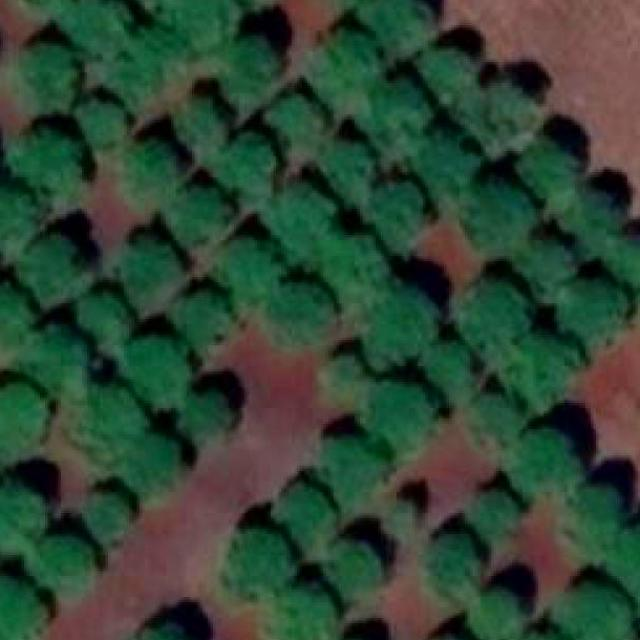Tree: (456, 172, 538, 254), (456, 272, 535, 350), (110, 25, 184, 103), (70, 377, 140, 455), (19, 128, 89, 205), (559, 574, 640, 640), (309, 34, 383, 106), (504, 429, 577, 501), (20, 233, 84, 312), (560, 275, 628, 349), (560, 487, 628, 559), (115, 224, 182, 297), (428, 526, 491, 603), (162, 178, 234, 244), (362, 280, 435, 345), (368, 380, 436, 448), (266, 180, 331, 251), (508, 334, 577, 400), (321, 426, 386, 494), (0, 476, 56, 554), (224, 28, 288, 96), (228, 529, 292, 597), (55, 0, 131, 57), (366, 180, 430, 246), (160, 0, 247, 48), (560, 185, 626, 248), (367, 81, 430, 147), (326, 540, 389, 606), (478, 78, 544, 140), (271, 484, 339, 544), (420, 128, 480, 195), (272, 586, 346, 640), (362, 0, 433, 56), (469, 482, 531, 546), (516, 230, 577, 295), (180, 277, 240, 343), (29, 537, 101, 592), (130, 333, 192, 396), (417, 44, 482, 104), (126, 133, 184, 200), (0, 385, 51, 461), (469, 581, 535, 639), (276, 286, 339, 346), (174, 387, 234, 450), (125, 438, 188, 498), (322, 238, 383, 299), (175, 86, 236, 147), (19, 330, 84, 387), (214, 136, 273, 198), (74, 286, 131, 350), (319, 132, 378, 192), (214, 240, 273, 300), (26, 36, 75, 106), (522, 135, 582, 192), (71, 90, 126, 152), (0, 272, 38, 361), (268, 88, 325, 147), (322, 348, 373, 409), (426, 344, 475, 406), (81, 486, 129, 546), (0, 186, 37, 259), (0, 576, 42, 640), (606, 524, 640, 601), (605, 230, 640, 290), (392, 492, 431, 528), (520, 620, 588, 640), (131, 621, 197, 640), (330, 628, 383, 640)
